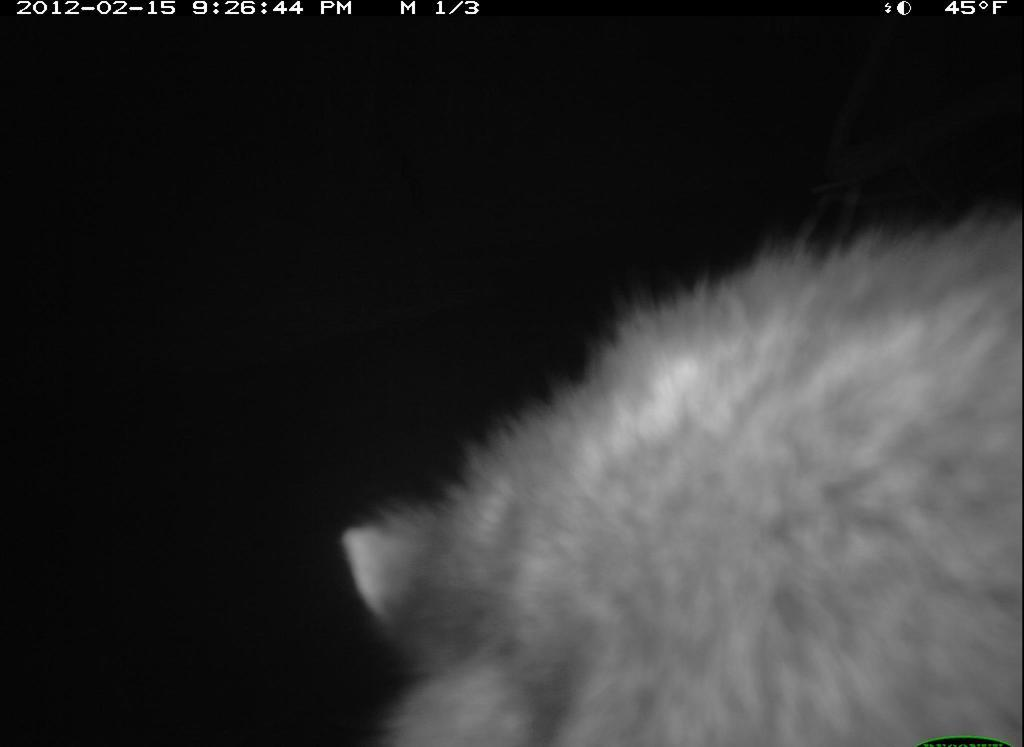raccoon: (319, 166, 1021, 747)
